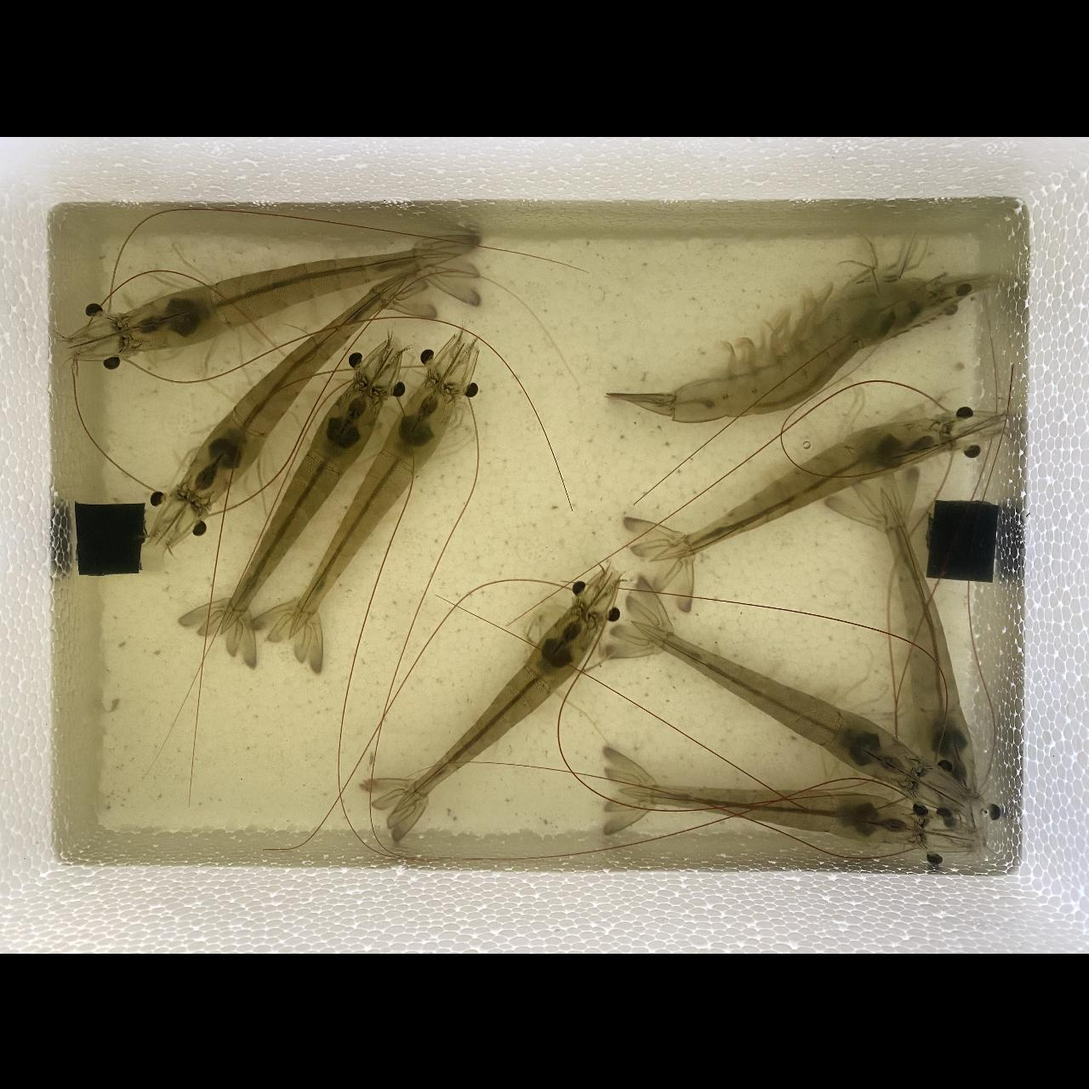box: (927, 500, 1001, 581), (75, 502, 146, 575)
side_shrimp: (607, 275, 947, 420)
top_shrimp: (180, 270, 414, 506), (632, 622, 921, 786), (655, 412, 960, 561), (287, 379, 454, 641), (394, 604, 601, 813), (222, 377, 383, 635), (123, 249, 464, 346), (882, 493, 978, 796), (616, 783, 926, 844)
